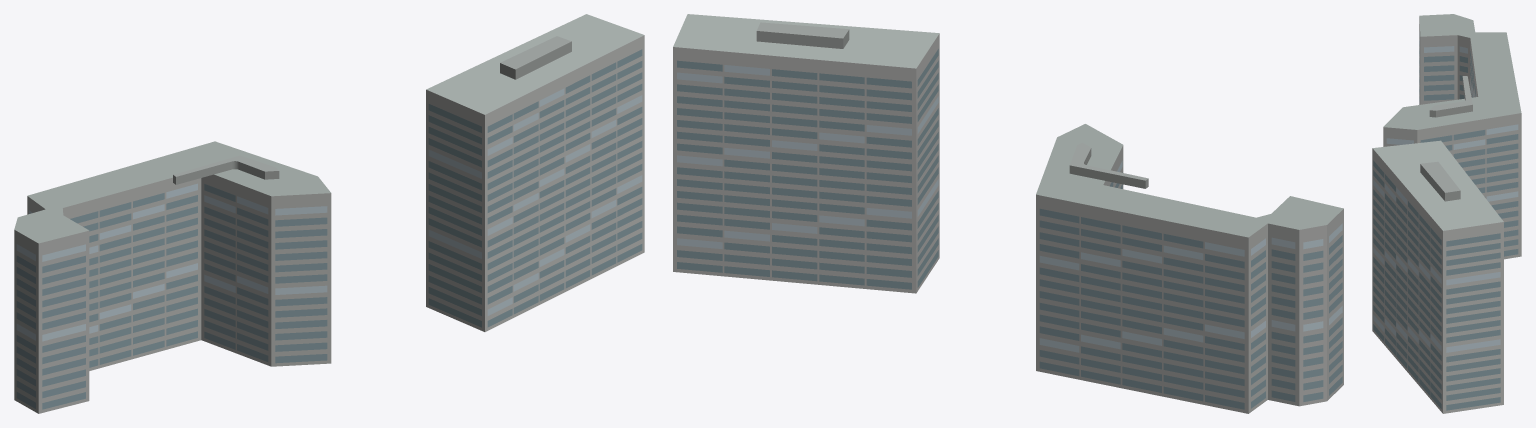
The model's file is apt-a10024636.glb.
3 views of the same model, side by side, from view 1: azimuth 30°, elevation 25°; view 2: azimuth 150°, elevation 25°; view 3: azimuth 270°, elevation 25° (orthographic). The views are drawn at different scales.
Parts seen in each view (by area): view 1: apt-a10024636; view 2: apt-a10024636; view 3: apt-a10024636.
Boxes of the visible parts, x1,y1,x2,y2 form: apt-a10024636: (14, 14, 644, 413); apt-a10024636: (673, 14, 1343, 413); apt-a10024636: (1372, 14, 1521, 413).
Size of the model in its own units: 146 by 51 by 35.96.
